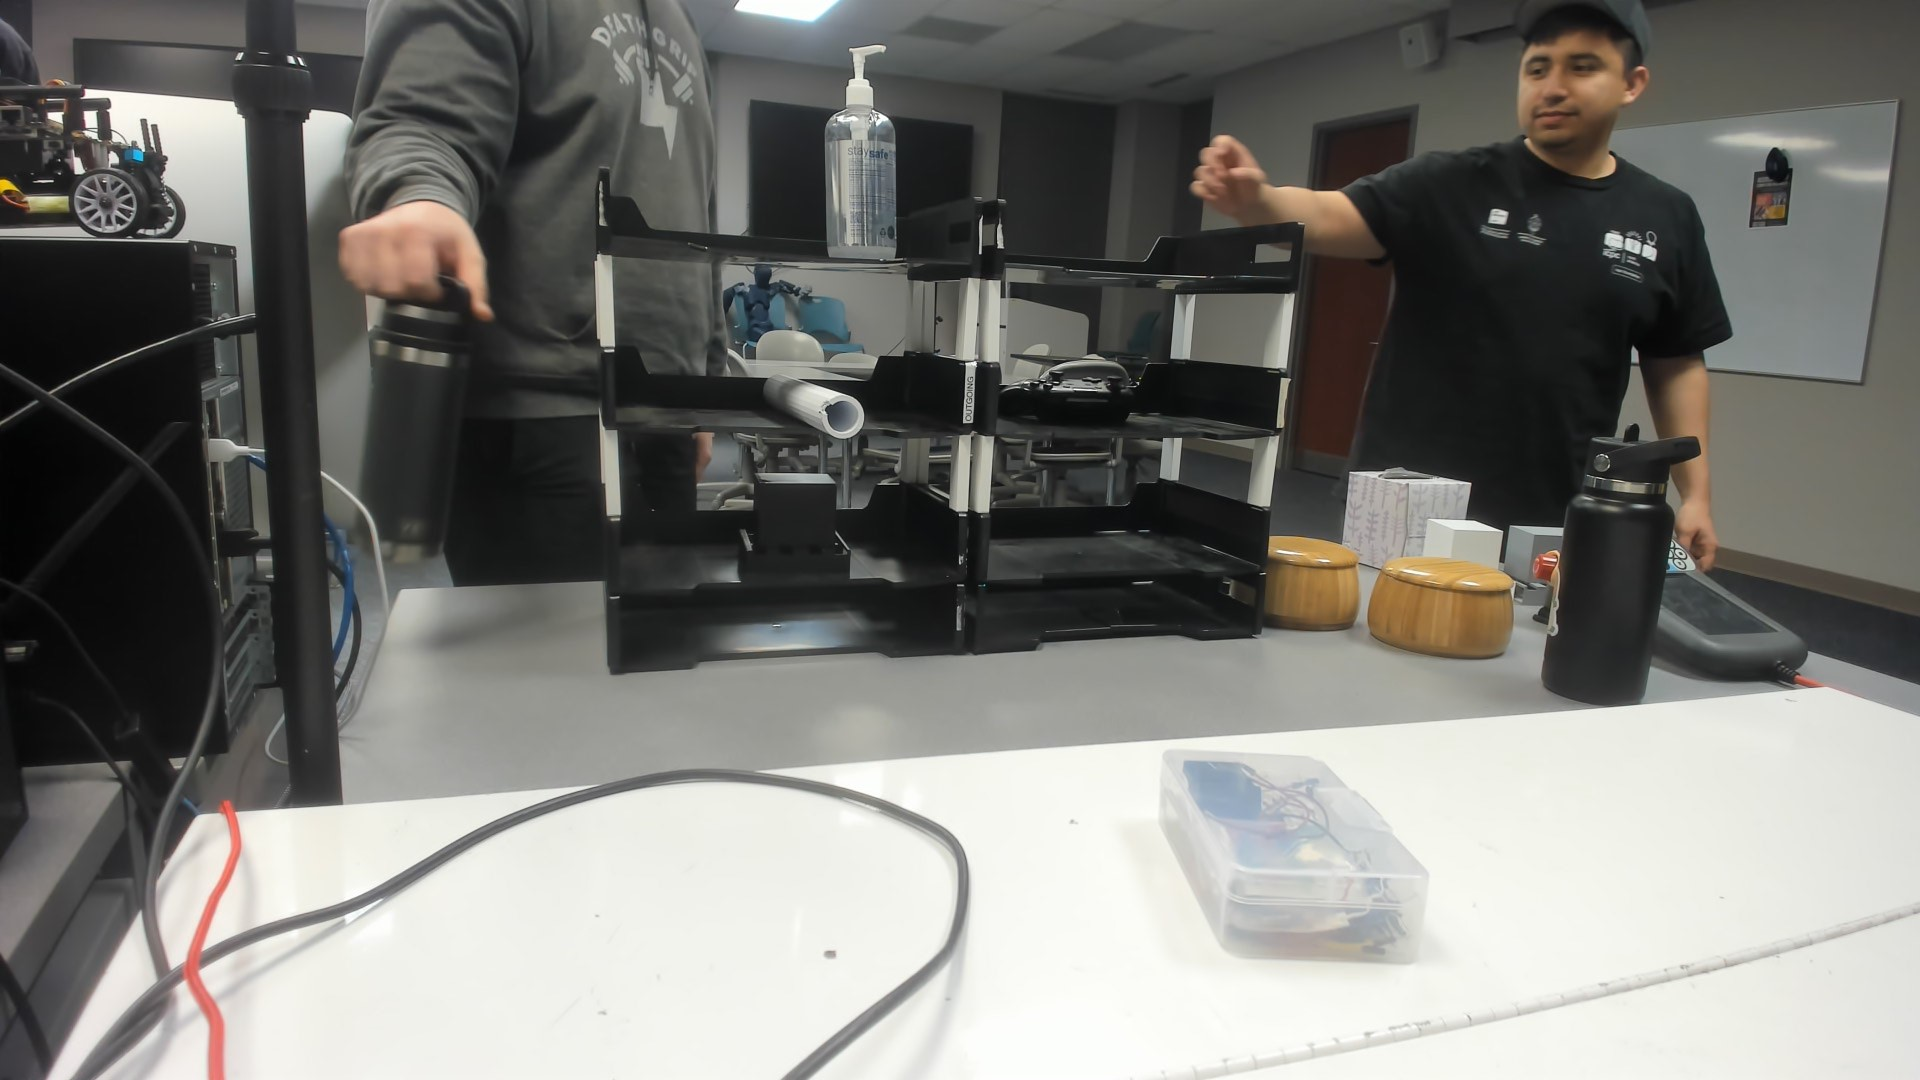black pallet: (735, 468, 857, 579)
grey pallet: (1505, 520, 1571, 605)
white pallet: (1419, 516, 1505, 571)
